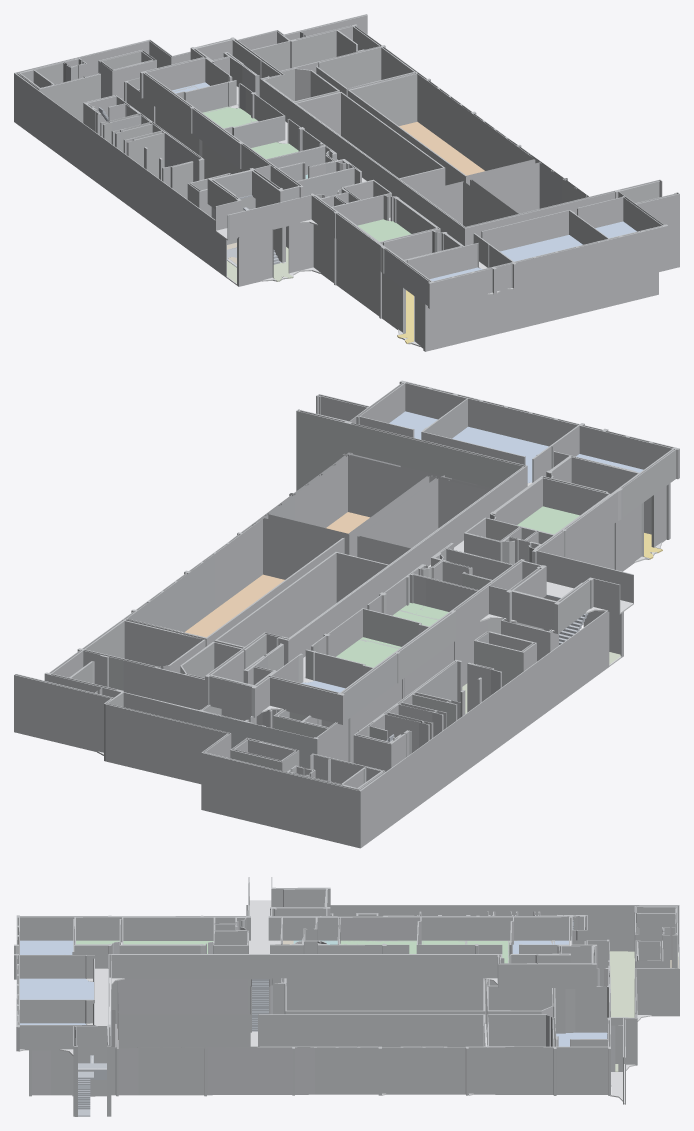
The model's file is BlocoD.glb.
3 renders of one model, top to bottom at view 1: azimuth 30°, elevation 25°; view 2: azimuth 150°, elevation 25°; view 3: azimuth 270°, elevation 25°, orthographic. The views are drawn at different scales.
Parts seen in each view (by area): view 1: D0 — Paredes, D2 — Paredes, D0 — Oficina de Usinagem S1, D2 — Aulas Gerais 2, D — Escada 10 — Paredes, D2 — Lab. CAD/CAM, D2 — Lab. Informática 14D; view 2: D0 — Paredes, D2 — Paredes, D0 — Oficina de Usinagem S1, D2 — Aulas Gerais 2, D — Escada 10 — Paredes, D2 — Lab. CAD/CAM, D2 — Lab. Informática 14D, D2 — Circulação, D2 — Lab. Hidráulica e Pneumática; view 3: D0 — Paredes, D2 — Paredes, D2 — Circulação, D0 — Área externa, D2 — Aulas Gerais 2, D — Escada 10 — Paredes, D2 — Desenho Técnico, D — Escada 10, D — Escada 8, D0 — Circulação, D2 — Lab. CAD/CAM, D0 — Civil FIC (+1 smaller).
Boxes of the visible parts, x1,y1,x2,y2 form: D0 — Paredes: [14, 14, 658, 351]; D2 — Paredes: [140, 37, 679, 308]; D0 — Oficina de Usinagem S1: [399, 121, 484, 175]; D2 — Aulas Gerais 2: [500, 235, 582, 261]; D — Escada 10 — Paredes: [659, 219, 679, 271]; D2 — Lab. CAD/CAM: [202, 106, 257, 128]; D2 — Lab. Informática 14D: [358, 219, 410, 241]; D0 — Paredes: [14, 452, 670, 848]; D2 — Paredes: [205, 380, 679, 724]; D0 — Oficina de Usinagem S1: [185, 574, 284, 637]; D2 — Aulas Gerais 2: [452, 426, 548, 482]; D — Escada 10 — Paredes: [296, 440, 347, 490]; D2 — Lab. CAD/CAM: [336, 637, 401, 667]; D2 — Lab. Informática 14D: [517, 506, 579, 534]; D2 — Circulação: [262, 482, 633, 712]; D2 — Lab. Hidráulica e Pneumática: [393, 603, 448, 626]; D0 — Paredes: [29, 905, 679, 1104]; D2 — Paredes: [14, 877, 597, 1070]; D2 — Circulação: [19, 900, 571, 1069]; D0 — Área externa: [609, 951, 678, 1017]; D2 — Aulas Gerais 2: [19, 978, 93, 999]; D — Escada 10 — Paredes: [72, 1050, 111, 1116]; D2 — Desenho Técnico: [20, 940, 73, 954]; D — Escada 10: [78, 1070, 106, 1116]; D — Escada 8: [252, 979, 268, 1031]; D0 — Circulação: [115, 1014, 651, 1104]; D2 — Lab. CAD/CAM: [422, 940, 509, 963]; D0 — Civil FIC: [556, 1032, 607, 1046].
Size of the model in its own units: 405 by 78.2 by 671.
